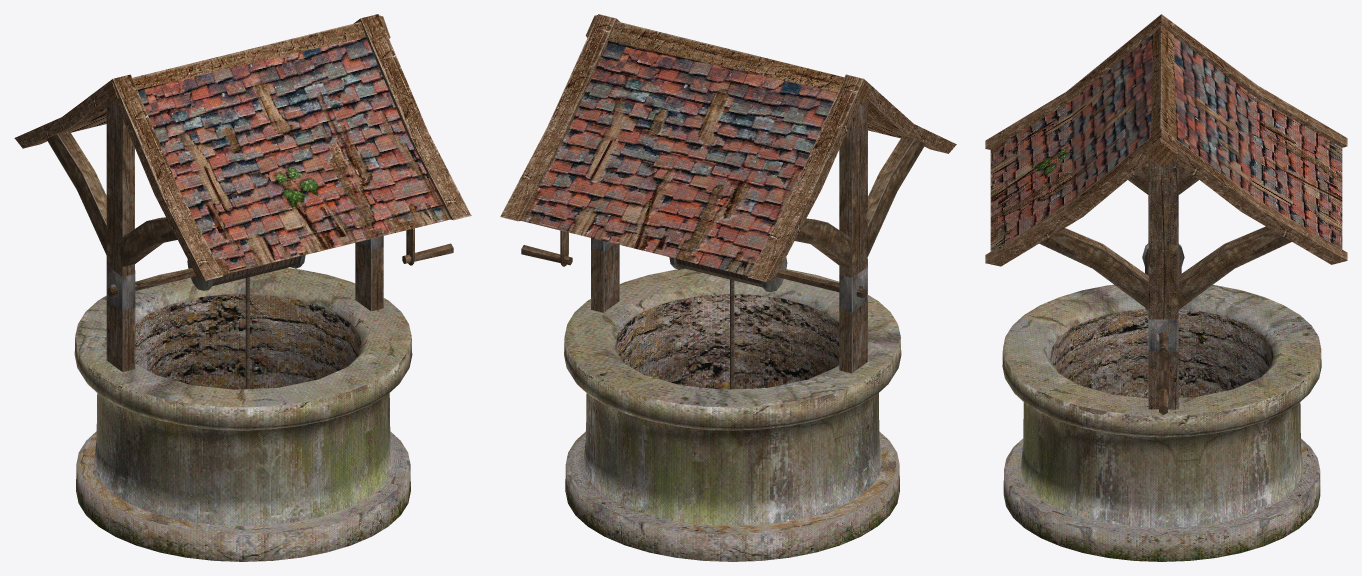
Rendered from well.fbx.
3 renders of one model, left to right at view 1: azimuth 30°, elevation 25°; view 2: azimuth 150°, elevation 25°; view 3: azimuth 270°, elevation 25°, orthographic. The views are drawn at different scales.
Visible parts, largest first — view 1: Cylinder1; view 2: Cylinder1; view 3: Cylinder1.
Part boxes in pixels (<box>): Cylinder1: <box>14,14,471,561</box>; Cylinder1: <box>500,14,956,561</box>; Cylinder1: <box>985,14,1347,561</box>.
Size of the model in its own units: 5.72 by 6.86 by 5.35.
3 materials, 3 textured.
